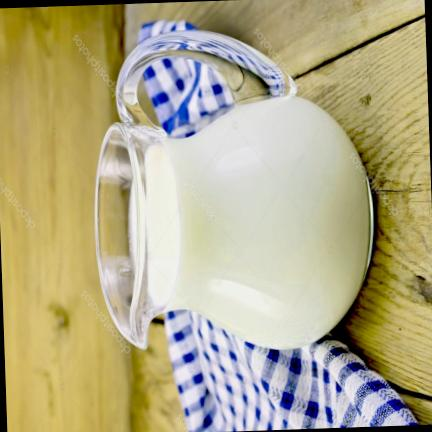container: (95, 96, 373, 349)
fluid: (159, 96, 370, 347)
fluid-surface: (128, 139, 180, 307)
